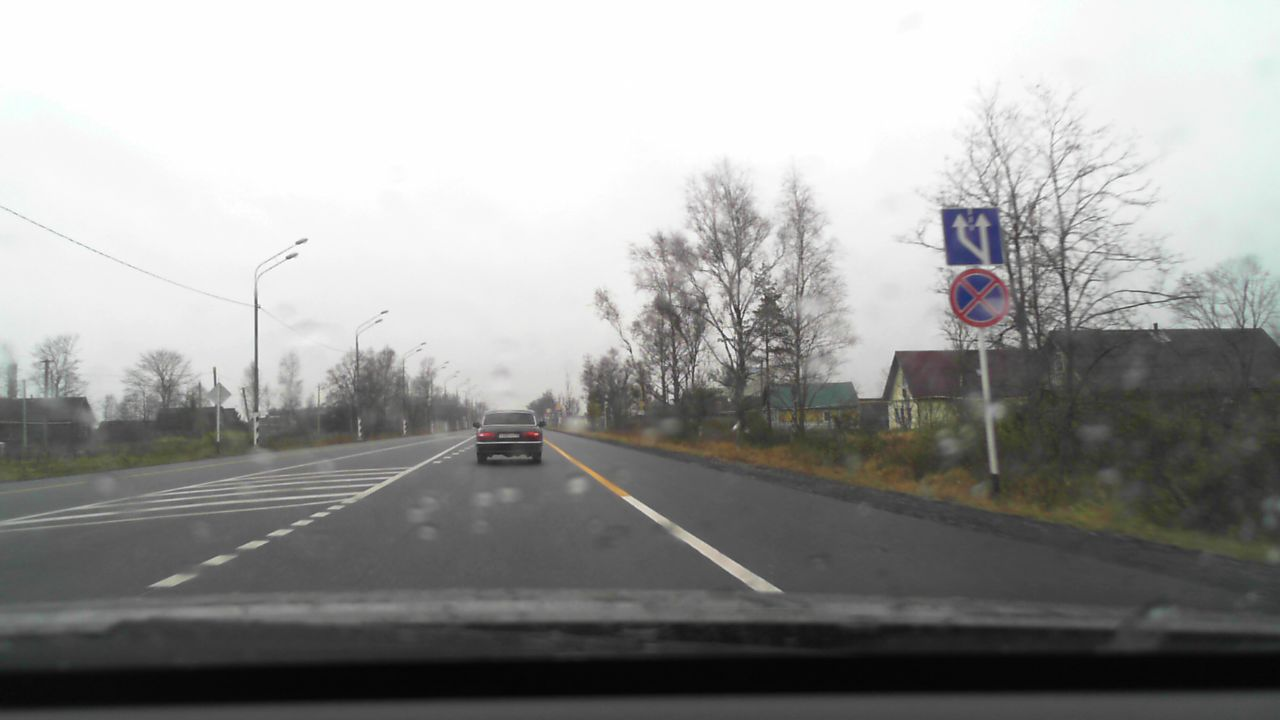No Parking: (950, 268, 1009, 327)
